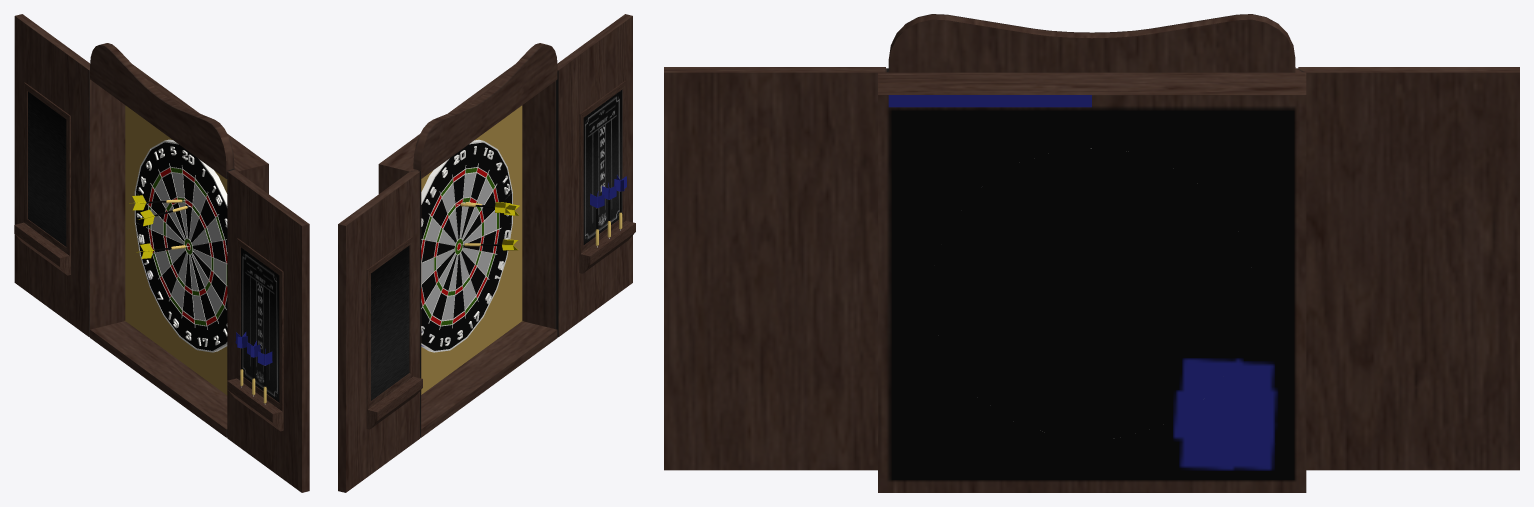
File: dart board.fbx
3 views of the same model, side by side, from view 1: azimuth 30°, elevation 25°; view 2: azimuth 150°, elevation 25°; view 3: azimuth 270°, elevation 25° (orthographic). The views are drawn at different scales.
Visible parts, largest first — view 1: dart_tarcza_obj.113; view 2: dart_tarcza_obj.113; view 3: dart_tarcza_obj.113.
Boxes of the visible parts, bbox=[...] form: dart_tarcza_obj.113: bbox=[14, 14, 309, 492]; dart_tarcza_obj.113: bbox=[338, 14, 635, 492]; dart_tarcza_obj.113: bbox=[664, 14, 1519, 492].
Size of the model in its own units: 14.64 by 67.88 by 117.
1 material, 1 textured.
